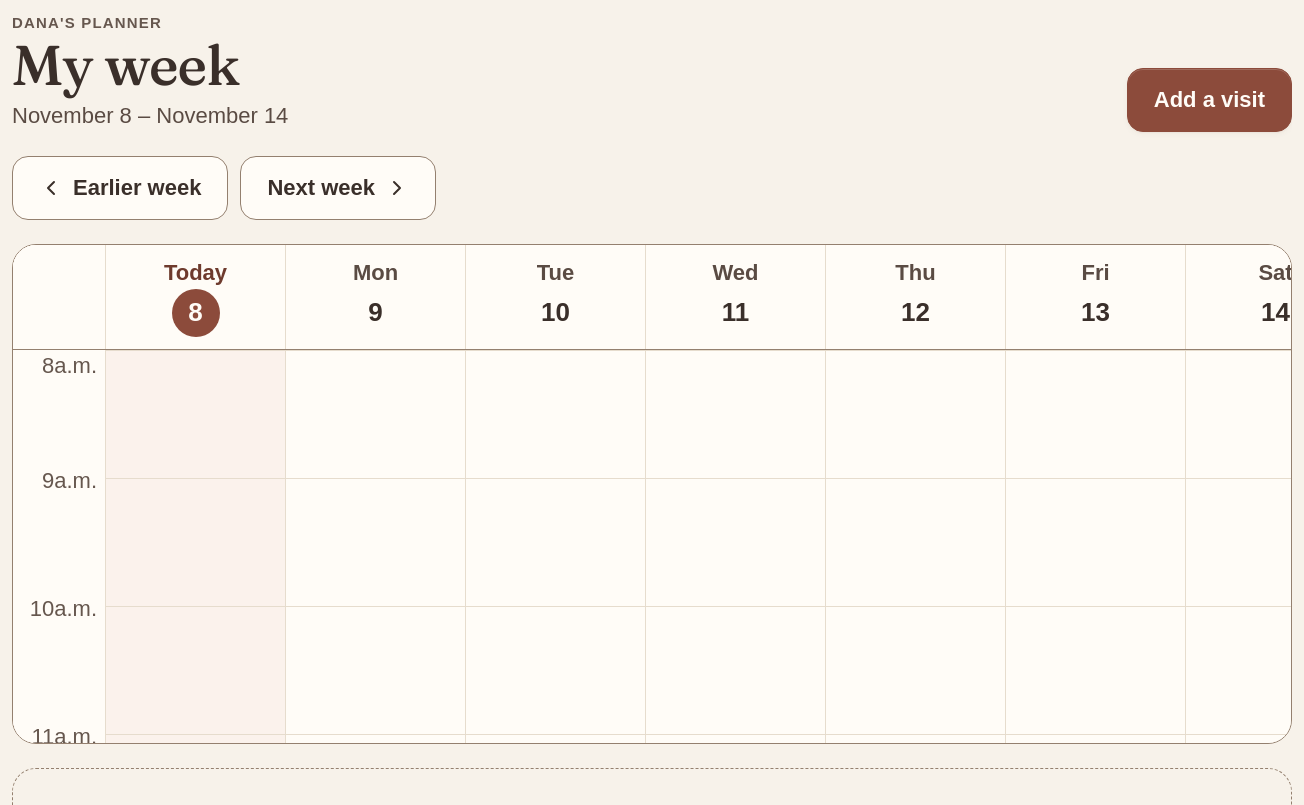
Scenario: My week › next week moves the seven days on
The image size is (1304, 805).
Click the button "Next week". click: (338, 188)
box: left=240, top=156, right=436, bottom=220
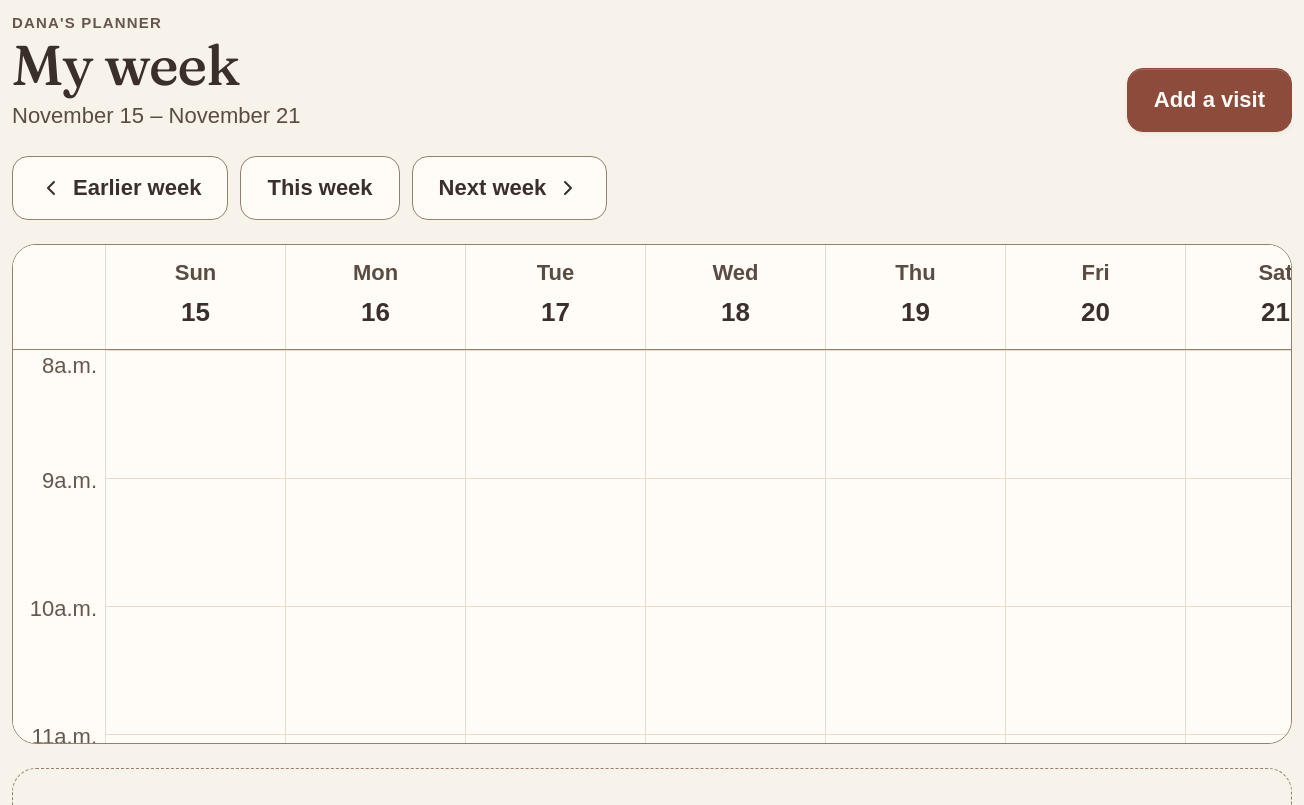
expect the text "November 15 – November 21" is shown: met, box left=12, top=100, right=301, bottom=132
expect the text "Today" is gone: met
Click the button "This week". click: (320, 188)
box: left=240, top=156, right=400, bottom=220
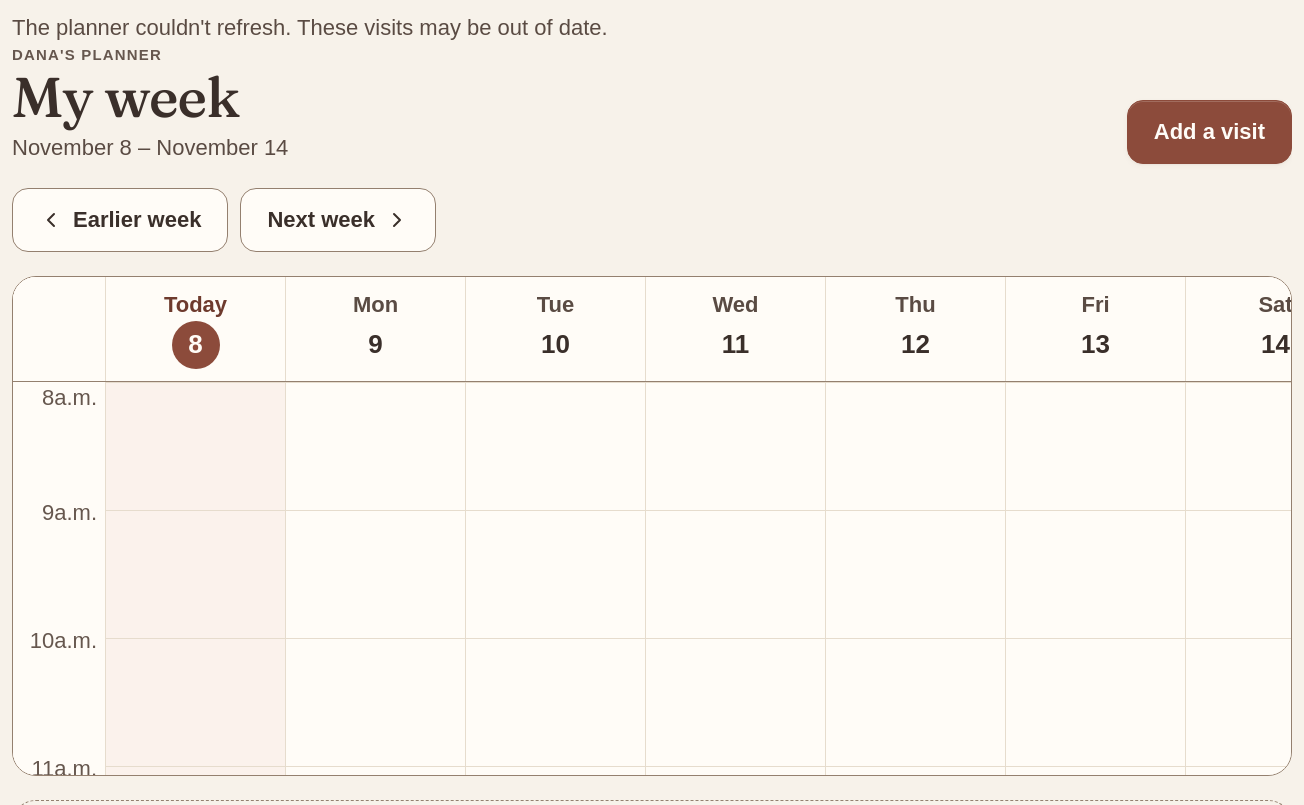
expect the text "November 8 – November 14" is shown: met, box left=12, top=132, right=288, bottom=164
